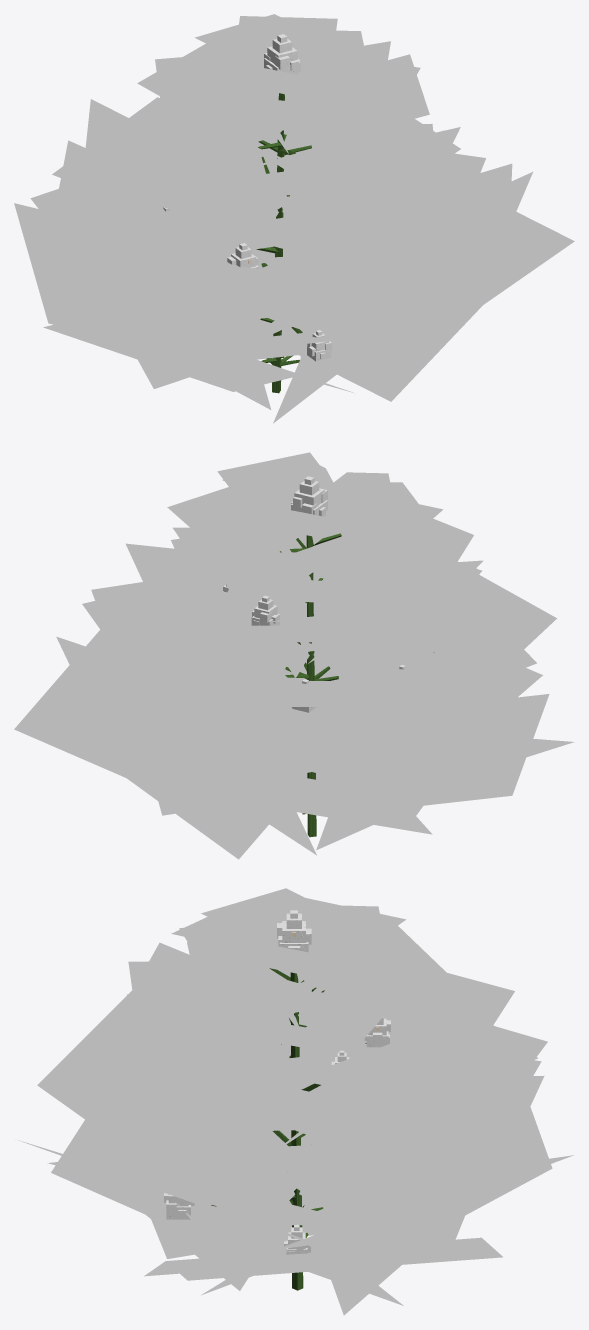
The model's file is plant_2_0_1.obj.
3 renders of one model, top to bottom at view 1: azimuth 30°, elevation 25°; view 2: azimuth 150°, elevation 25°; view 3: azimuth 270°, elevation 25°, orthographic. The views are drawn at different scales.
Visible parts, largest first — view 1: model; view 2: model; view 3: model.
Boxes of the visible parts, <box> form: model: <box>14,14,574,423</box>; model: <box>14,452,574,859</box>; model: <box>18,888,573,1315</box>.
Bounding box in the file's own units: 1.08 × 0.745 × 1.
